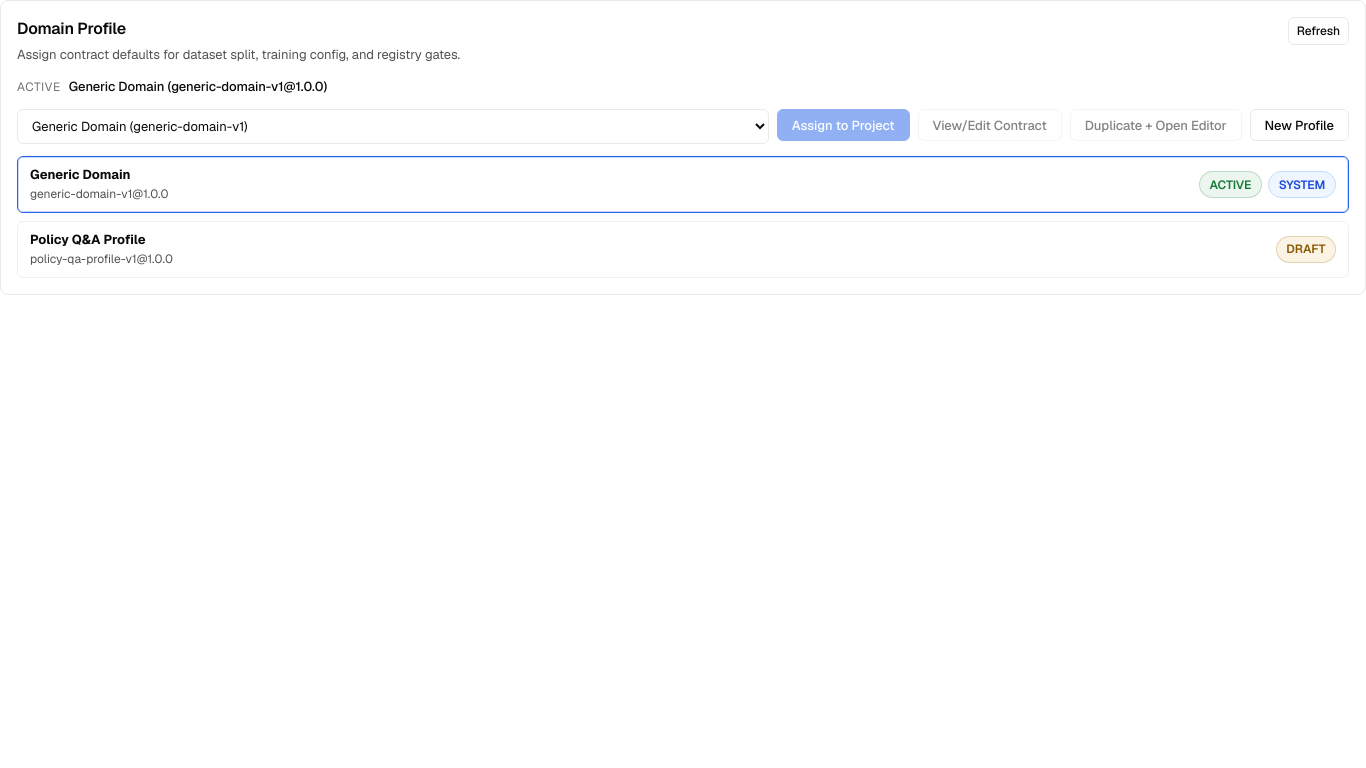
DomainProfileManager › keeps a user-selected draft profile selected and opens that contract
The width and height of the screenshot is (1366, 768).
Step 1. Select "Policy Q&A Profile (policy-qa-profile-v1)" in the dropdown → (393, 127), box [17,109,769,144]
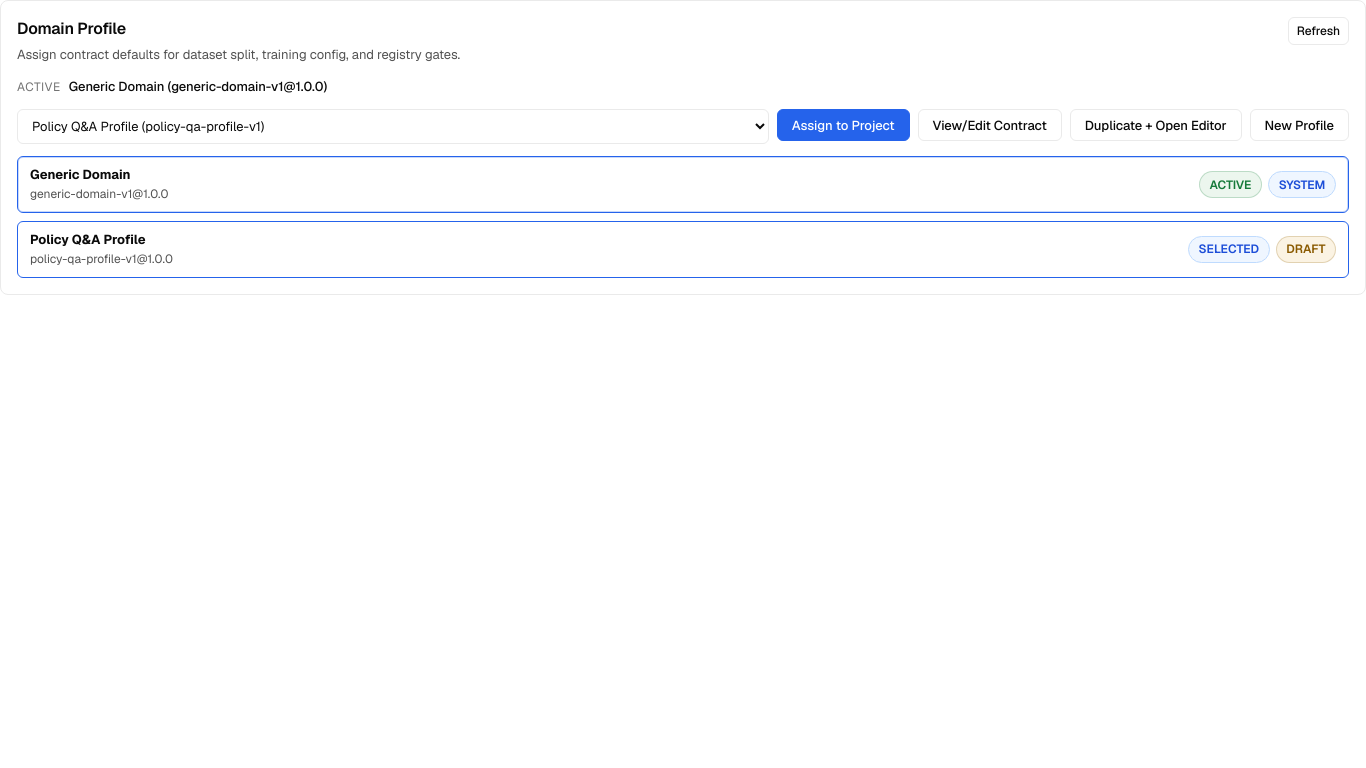
Step 2. Click the button "View/Edit Contract" → (990, 125), box [918,109,1062,141]
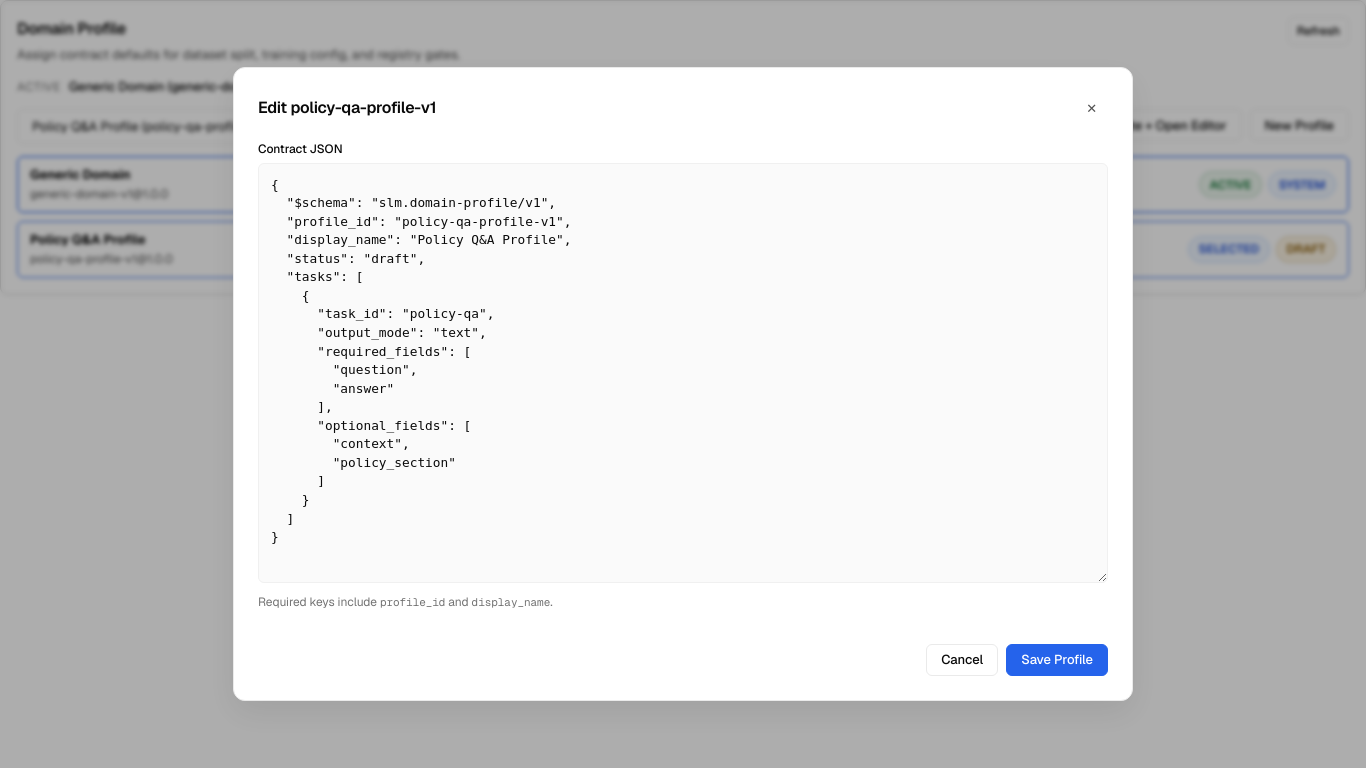
Expected: the heading "Edit policy-qa-profile-v1" is shown, [258,94,436,122]
